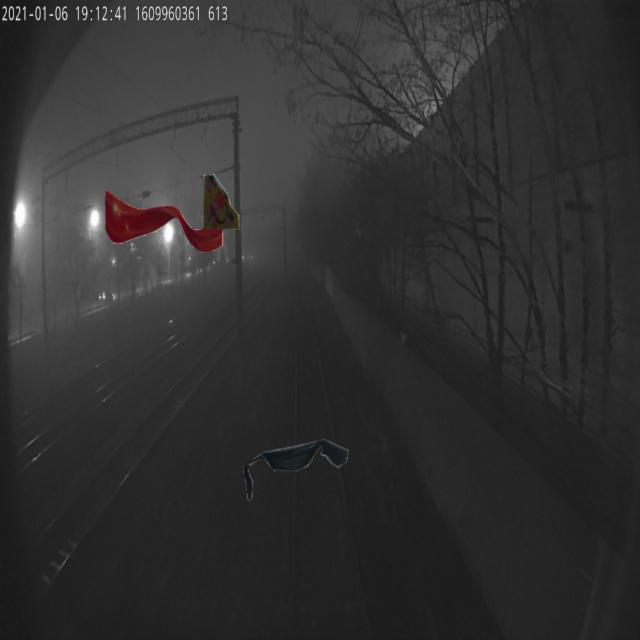floating object: (103, 190, 225, 253), (243, 438, 351, 502), (200, 170, 240, 233)
